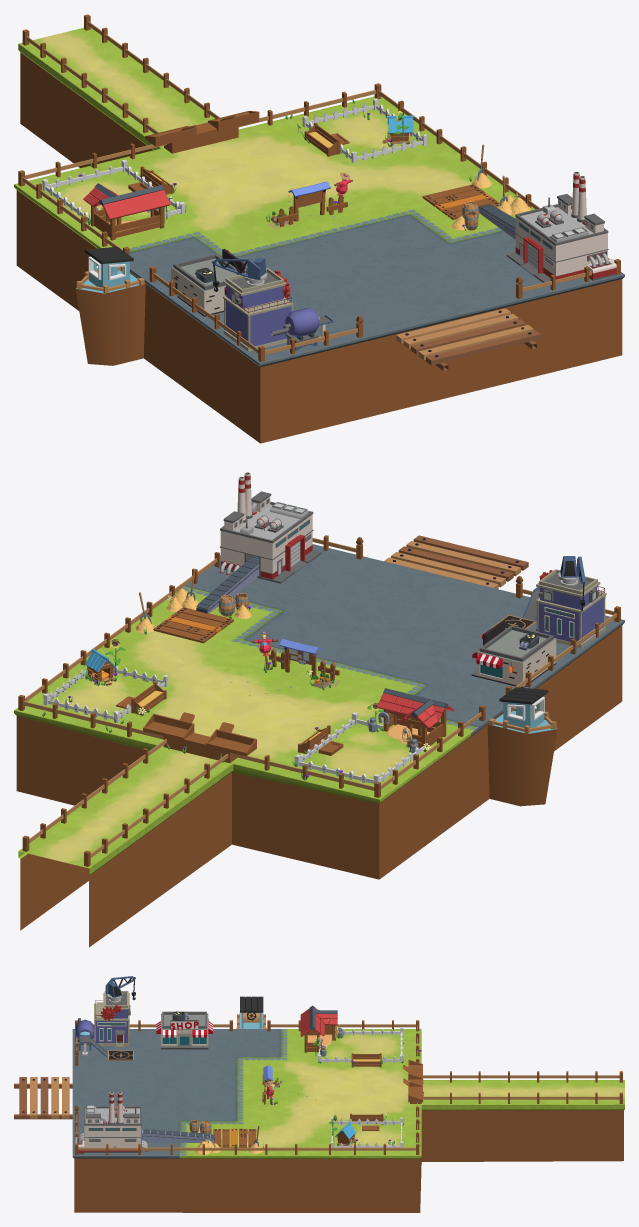
File: New Environment.FBX
3 views of the same model, one above another, from view 1: azimuth 30°, elevation 25°; view 2: azimuth 150°, elevation 25°; view 3: azimuth 270°, elevation 25° (orthographic). The views are drawn at different scales.
Parts seen in each view (by area): view 1: Platform_Top, Object017, Platform_Fence, 1__Factory_ThirdColor, object_1, Platform_Sides, Building_Bridge_1, Object014, object_0, Object015, Building_Upgrade, Object021 (+6 smaller); view 2: Platform_Top, Object017, Platform_Fence, 1__Factory_ThirdColor, object_1, Platform_Sides, Building_Bridge_1, object_0, Object014, Object015, Building_Upgrade, Object009 (+7 smaller); view 3: Platform_Top, Object017, Platform_Fence, 1__Factory_ThirdColor, object_1, Building_Bridge_1, object_0, Object014, Building_Upgrade, Hay_Stack_2, Object009, Object015 (+3 smaller).
Part boxes in pixels (x1,y1,x2,y2): Platform_Top: (14,27,624,367); Object017: (16,52,622,443); Platform_Fence: (18,14,620,361); 1__Factory_ThirdColor: (506,171,616,285); object_1: (212,257,333,351); Platform_Sides: (75,284,145,365); Building_Bridge_1: (396,308,540,370); Object014: (83,183,170,240); object_0: (171,248,245,316); Object015: (145,111,259,153); Building_Upgrade: (76,246,144,293); Object021: (302,98,427,163); Platform_Top: (14,544,624,875); Object017: (16,604,622,947); Platform_Fence: (18,535,620,866); 1__Factory_ThirdColor: (219,472,321,583); object_1: (522,556,606,648); Platform_Sides: (487,724,557,806); Building_Bridge_1: (384,535,528,588); object_0: (471,620,556,687); Object014: (368,688,454,753); Object015: (143,712,256,762); Building_Upgrade: (488,687,557,733); Object009: (153,607,233,643); Platform_Top: (72,1029,624,1158); Object017: (74,1110,623,1212); Platform_Fence: (74,1020,622,1154); 1__Factory_ThirdColor: (75,1092,148,1154); object_1: (76,976,135,1056); Building_Bridge_1: (14,1077,72,1119); object_0: (156,1011,212,1049); Object014: (300,1005,343,1056); Building_Upgrade: (236,996,266,1028); Hay_Stack_2: (142,1129,214,1142); Object009: (213,1128,256,1147); Object015: (403,1059,422,1103).
Bounding box in the file's own units: 3259 × 1191 × 5720.
Materials: 4 (2 with a texture image).
